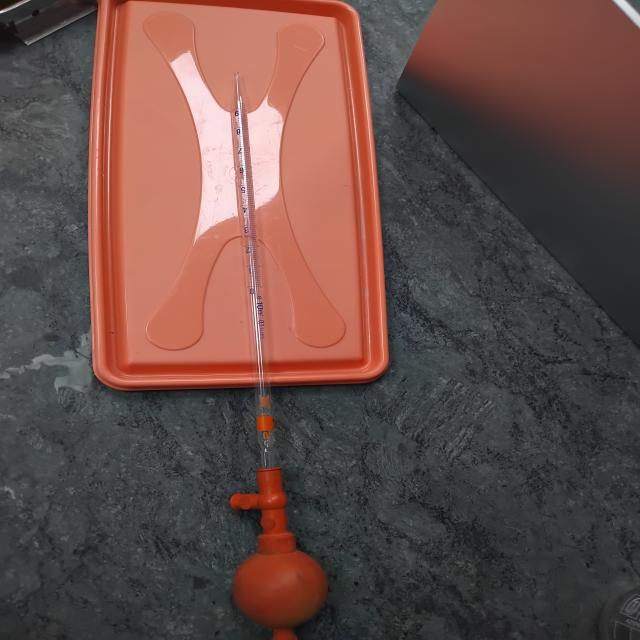Volumetric_Pipet: (192, 77, 364, 640)
